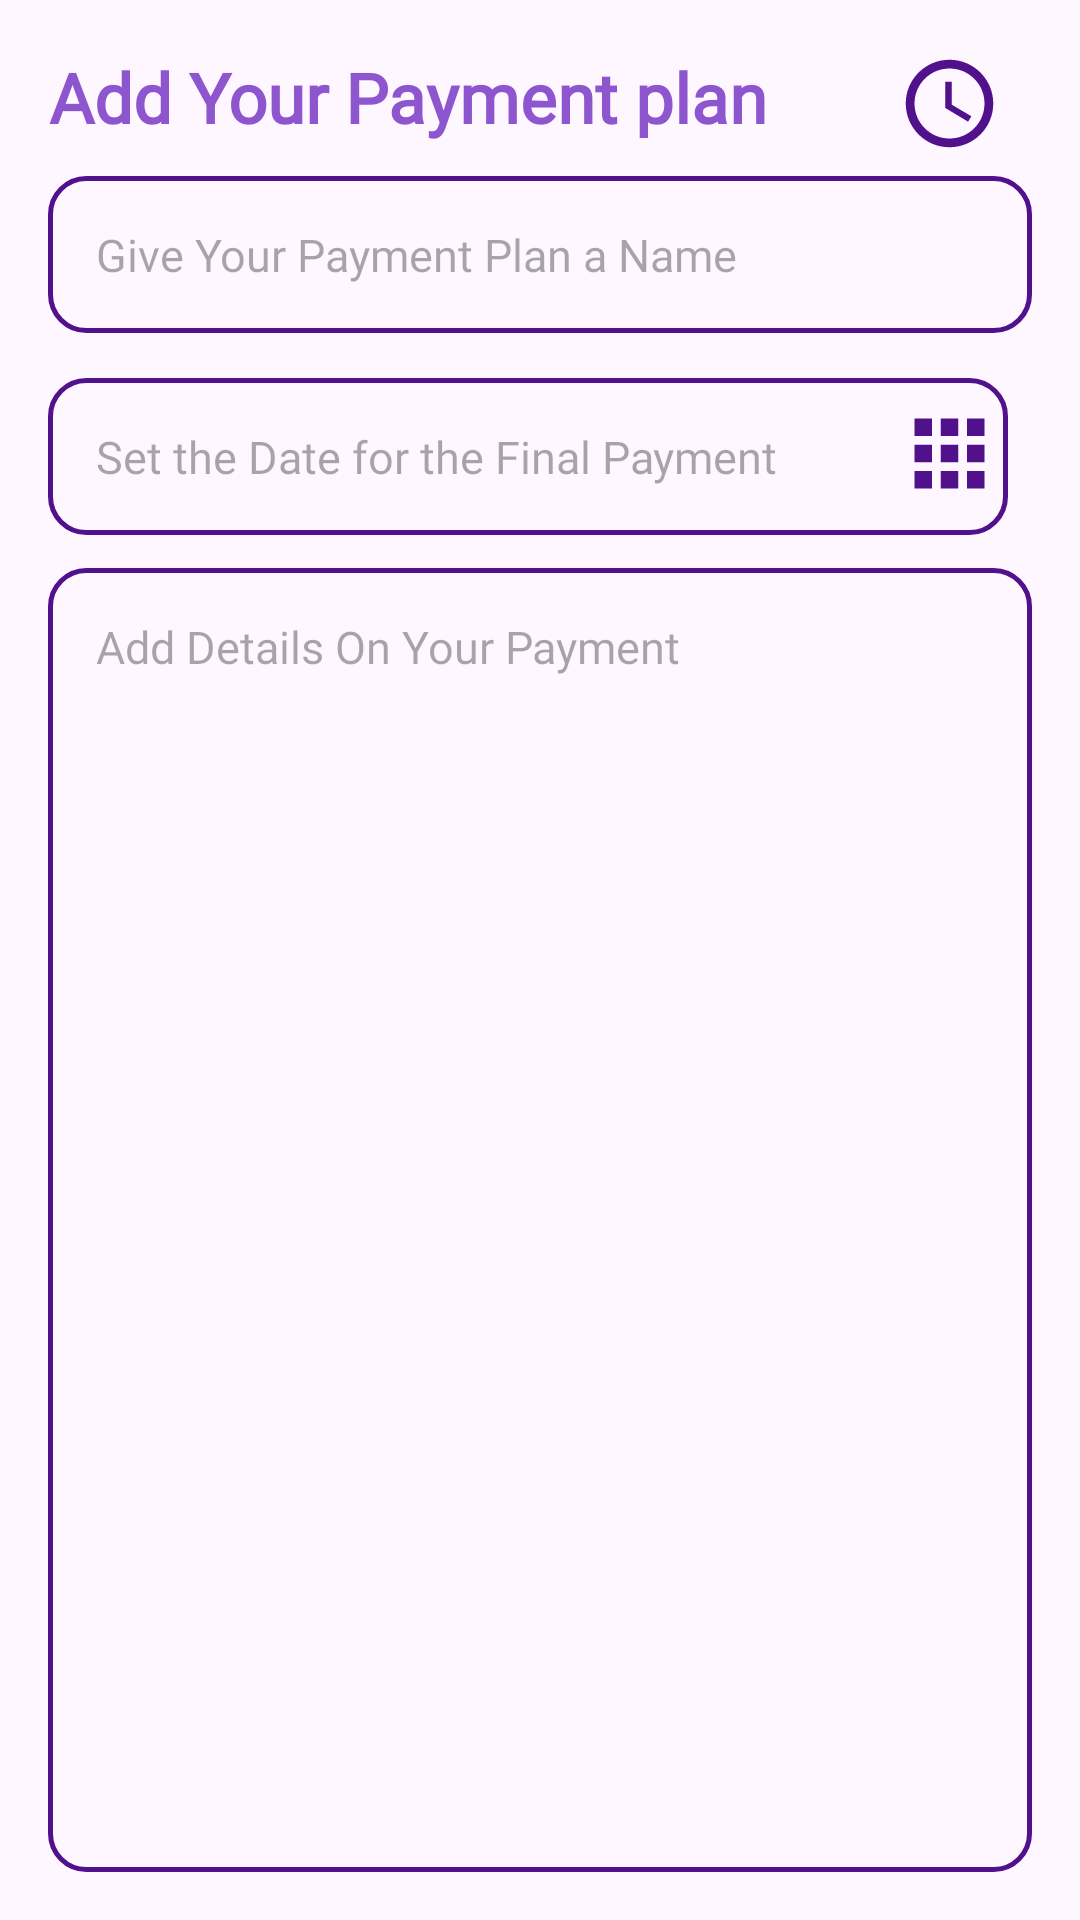

Icon bounding boxes for this 1080 x 1920 phone screenshot, format (x1, y1, x2, y2):
calender: (914, 418, 985, 489)
